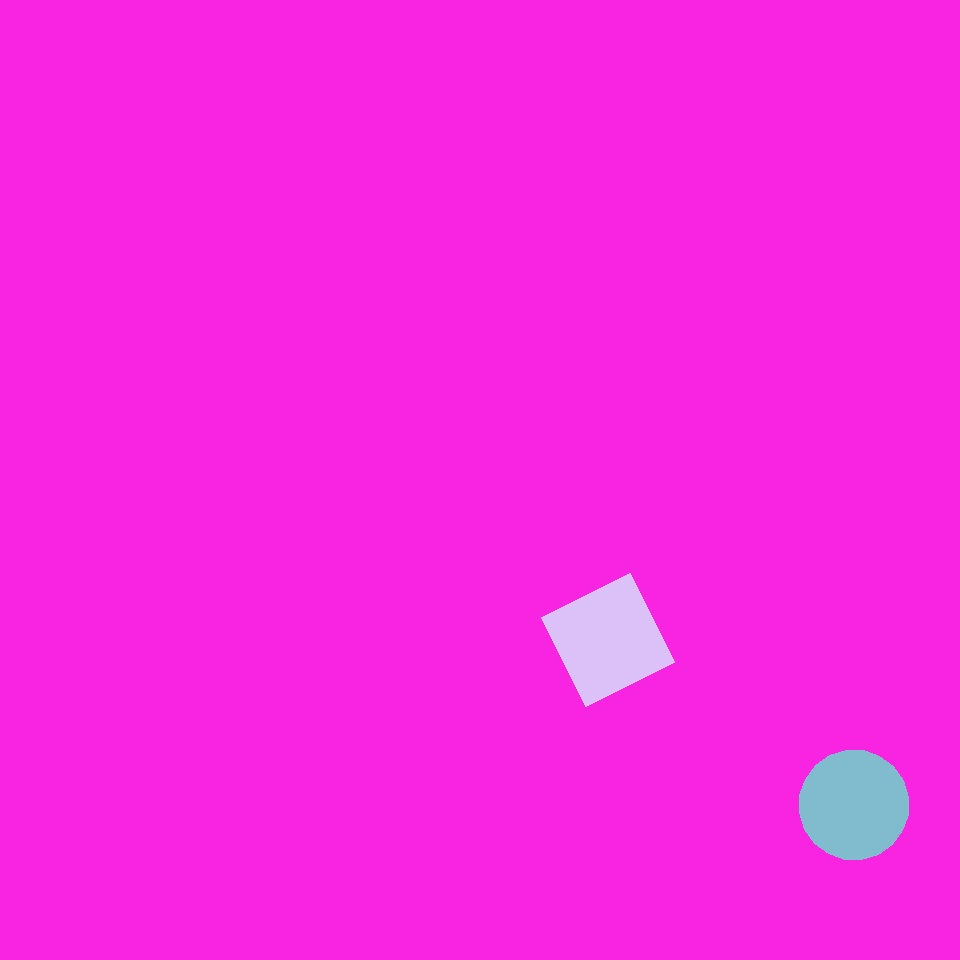circle: (414, 419, 715, 695), (249, 39, 439, 206), (45, 495, 170, 622)
square: (358, 241, 540, 423), (84, 360, 235, 512), (541, 574, 674, 706)
triangle: (523, 679, 798, 953), (800, 750, 908, 860)
